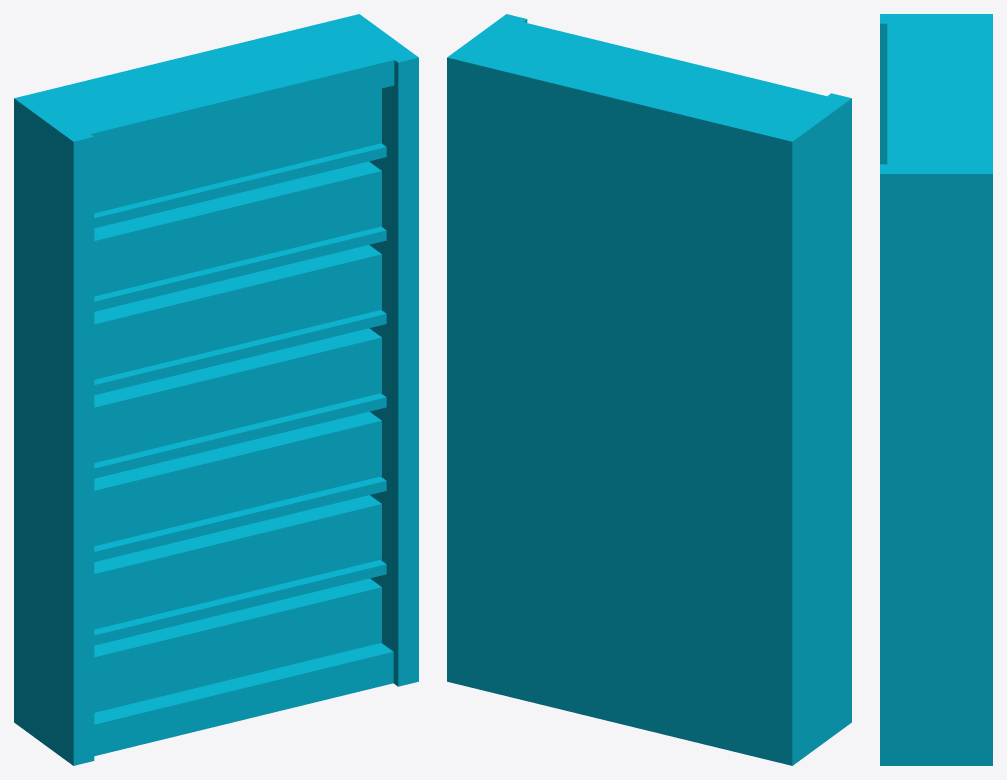
Rendered from bookshelf.fbx.
The picture shows the model from 3 angles, left to right: view 1: azimuth 30°, elevation 25°; view 2: azimuth 150°, elevation 25°; view 3: azimuth 270°, elevation 25°; orthographic projection. The views are drawn at different scales.
Parts seen in each view (by area): view 1: books, bookshelf1, bookshelf2; view 2: bookshelf1; view 3: bookshelf1.
Boxes of the visible parts, x1,y1,x2,y2 form: books: [94, 88, 381, 712]; bookshelf1: [14, 14, 418, 765]; bookshelf2: [94, 143, 386, 645]; bookshelf1: [447, 14, 851, 765]; bookshelf1: [880, 14, 992, 765].
Bounding box in the file's own units: 327 × 565 × 97.53.
